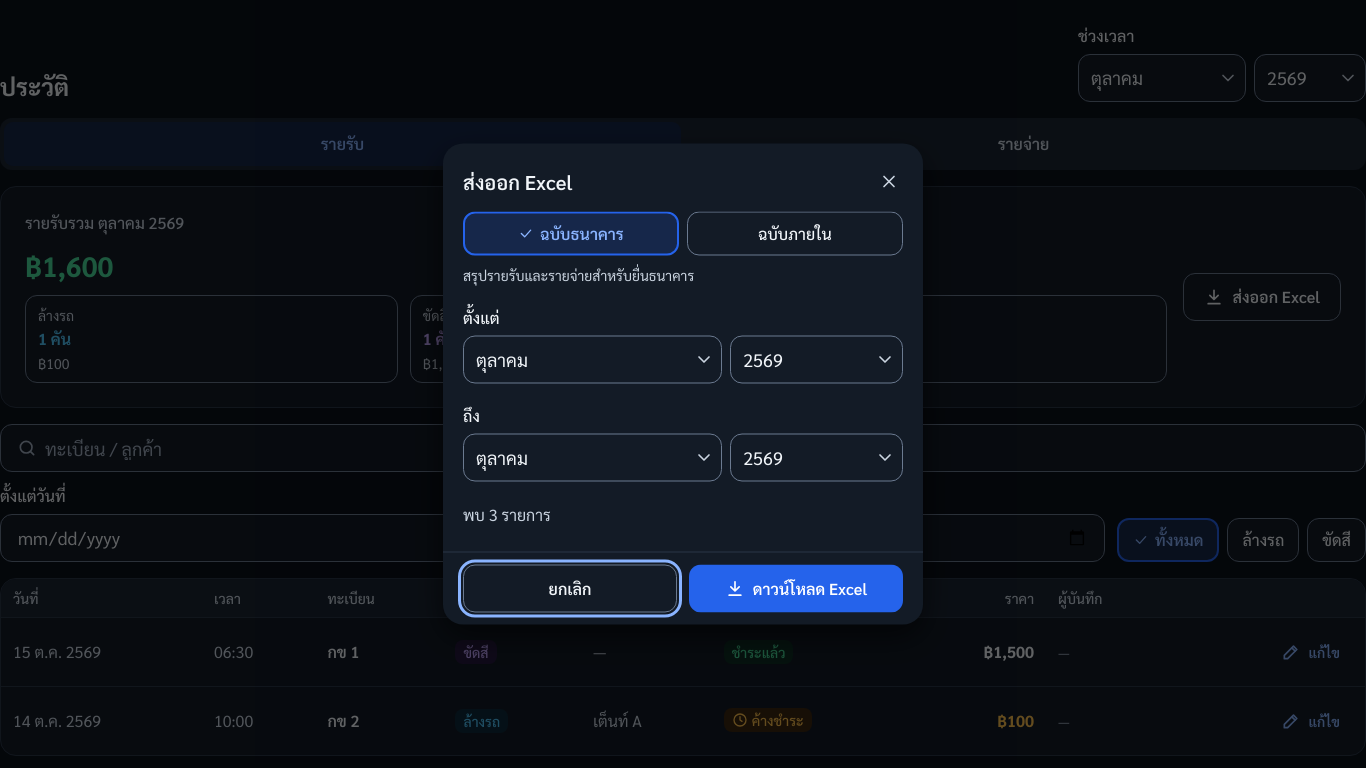
Test: HistoryScreen › refuses an end month before the start month
Select "กันยายน" in the dropdown named "ถึง: เดือน": (593,458) [463, 434, 722, 482]
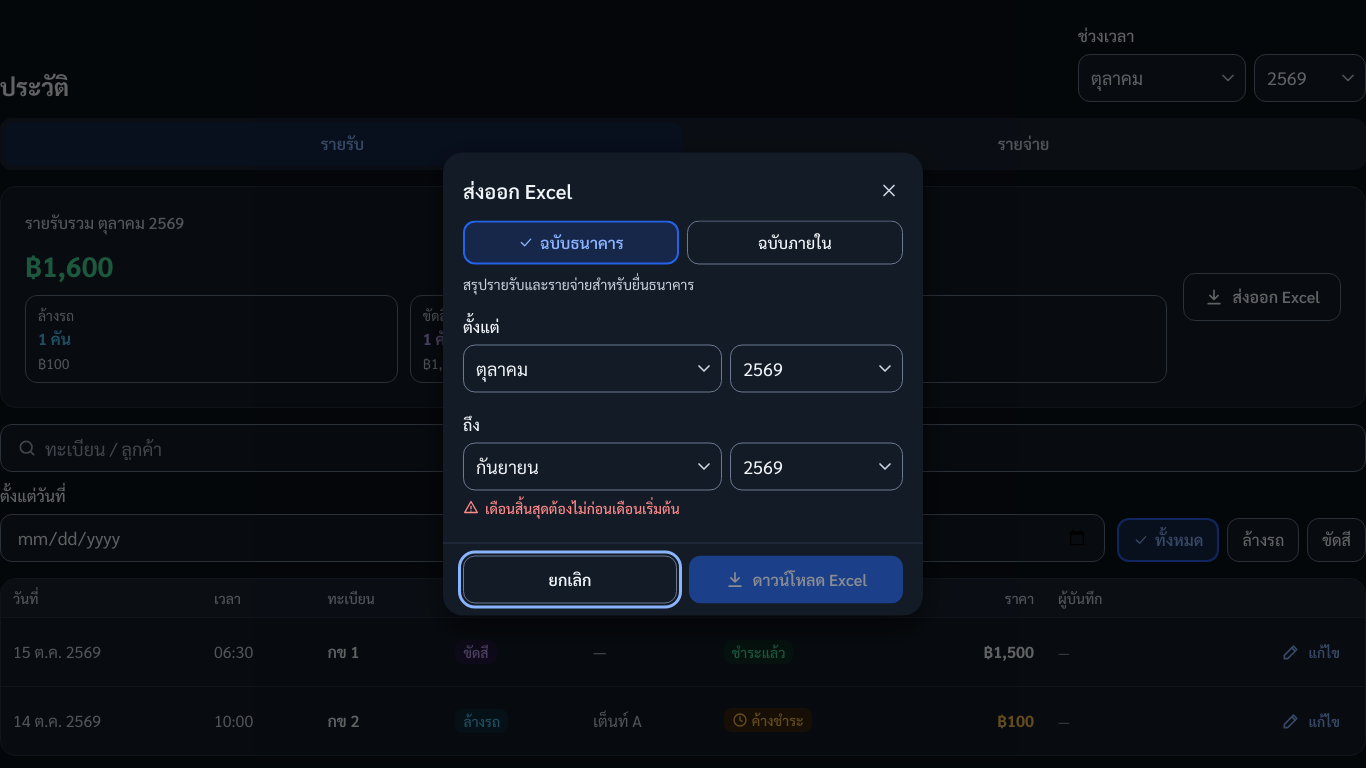
Expected: the text "เดือนสิ้นสุดต้องไม่ก่อนเดือนเริ่มต้น" is shown, [463, 498, 680, 516]
Expected: the button "ดาวน์โหลด Excel" is disabled, [689, 556, 903, 604]
